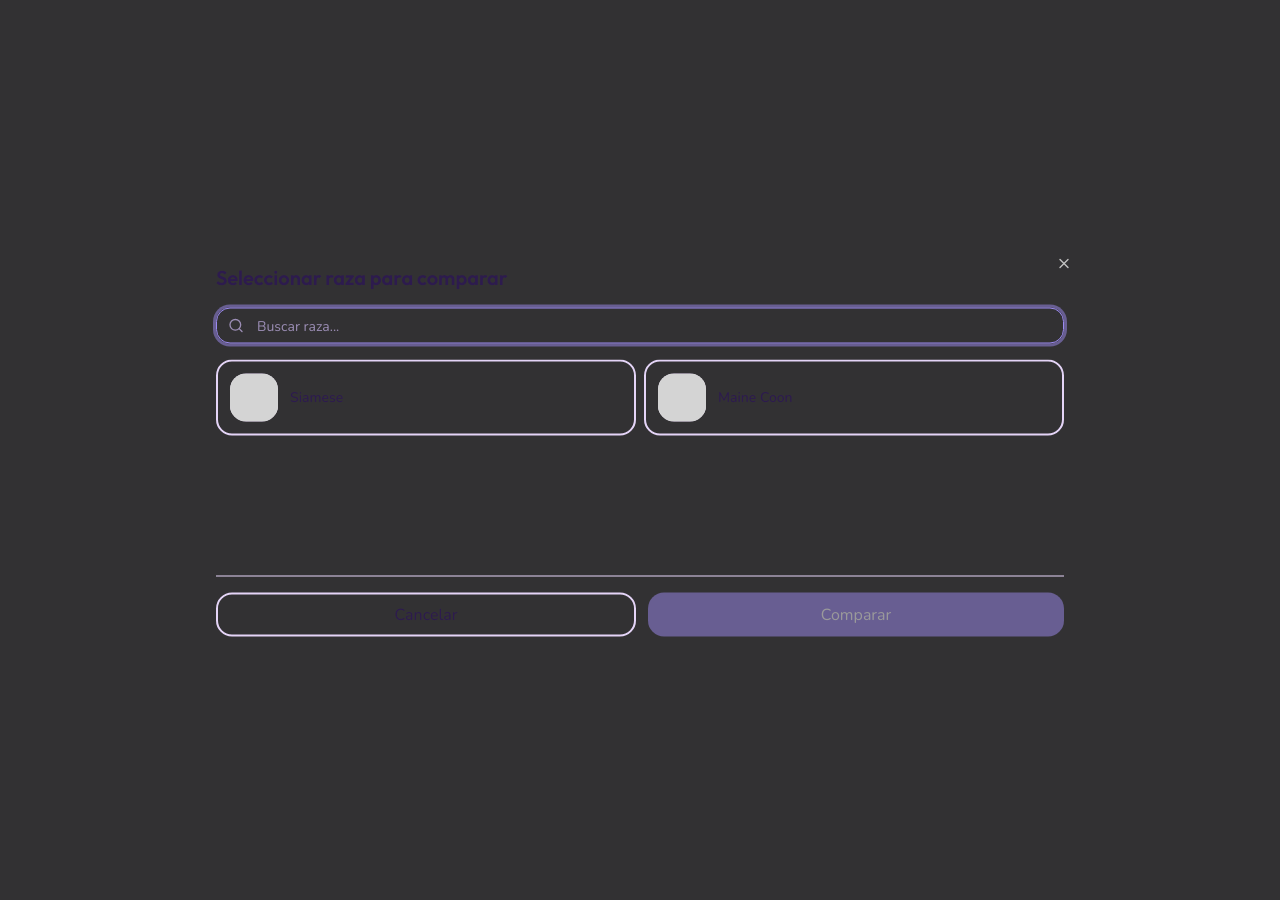
Test: BreedSelector › should select a breed when clicked
Click the button "Siamese" at (254, 398), box [216, 360, 636, 436]
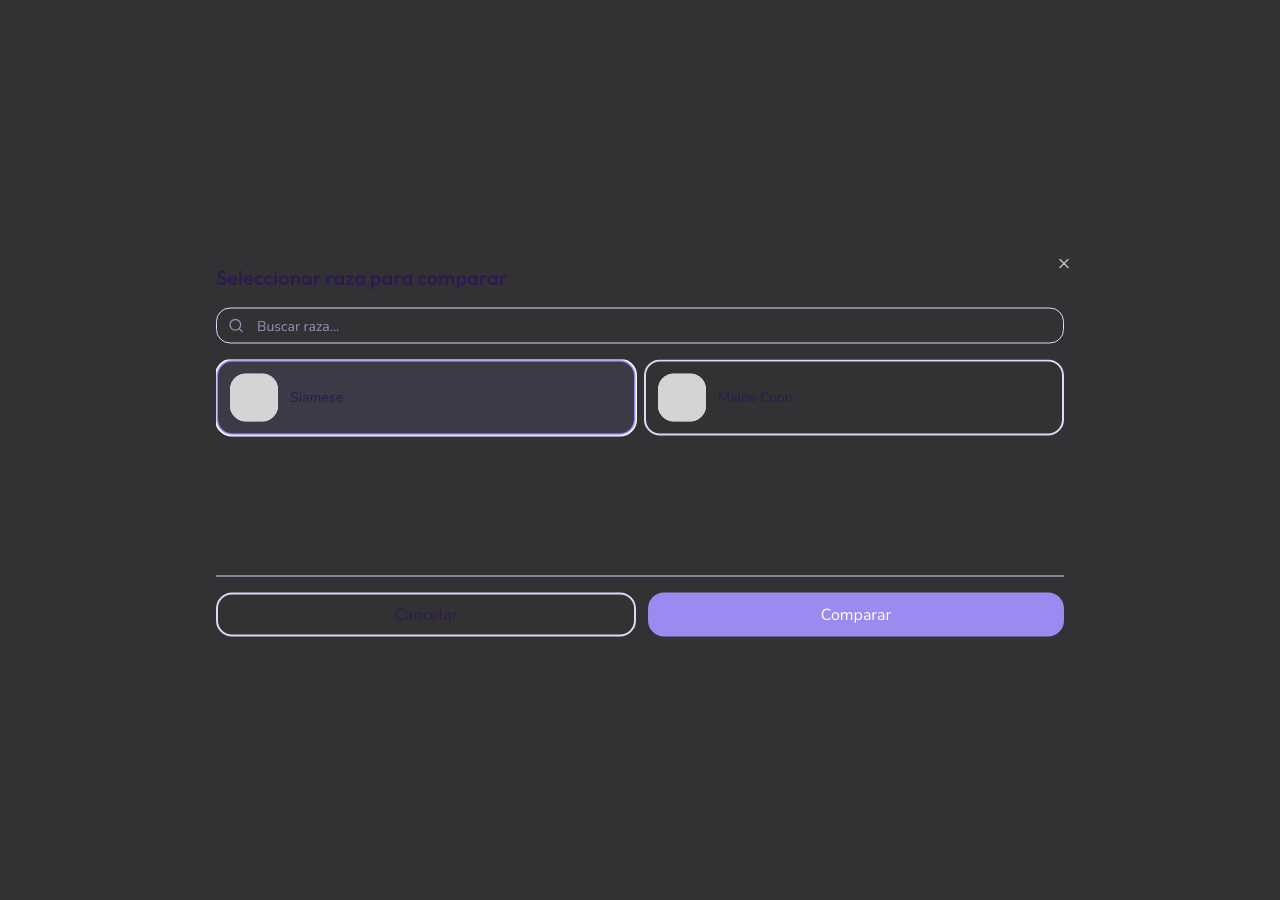
Expected: the button "Comparar" is enabled, [648, 592, 1064, 636]
